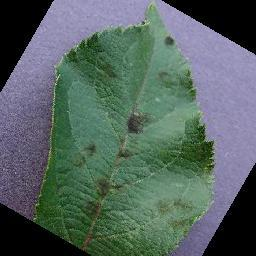apple healthy: (31, 1, 218, 255)
